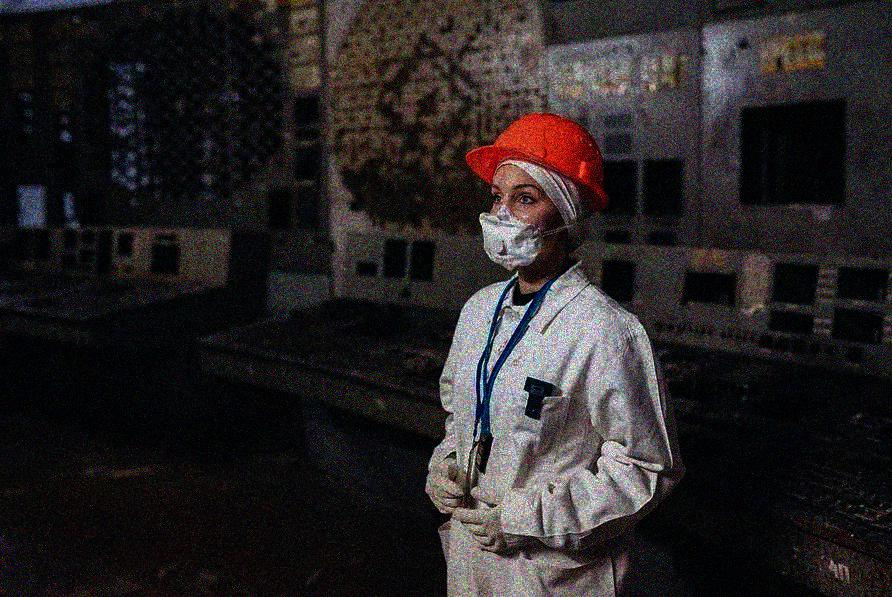helmet: (463, 112, 612, 267)
